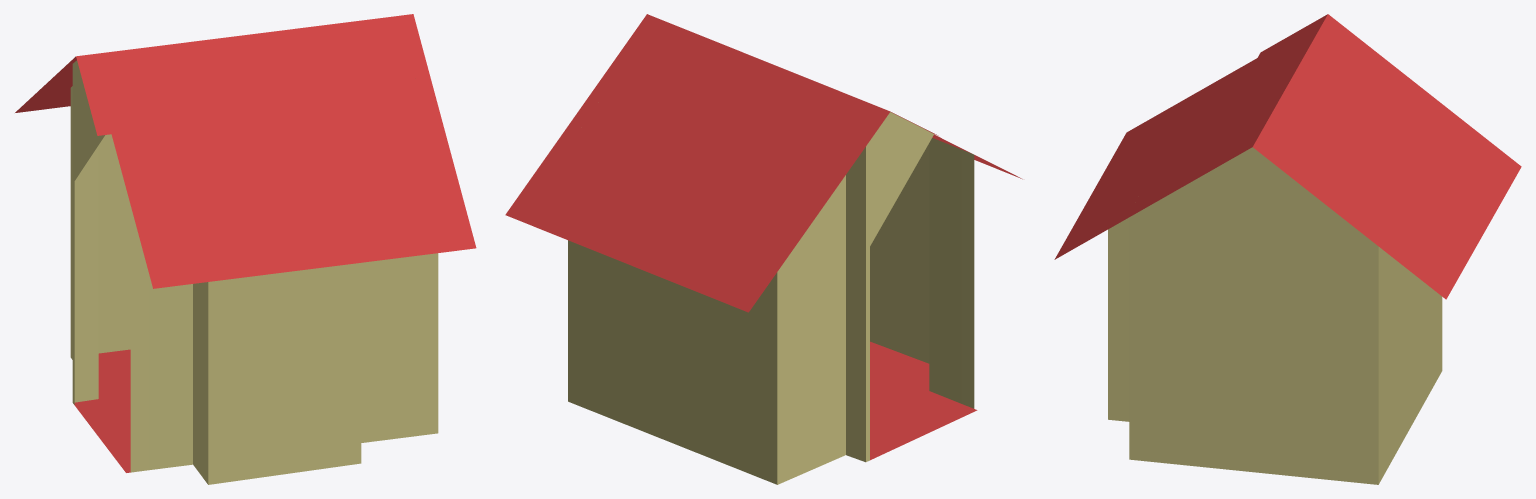
3 renders of one model, left to right at view 1: azimuth 30°, elevation 25°; view 2: azimuth 150°, elevation 25°; view 3: azimuth 270°, elevation 25°, orthographic. The views are drawn at different scales.
Size of the model in its own units: 17 by 20.08 by 15.7.
